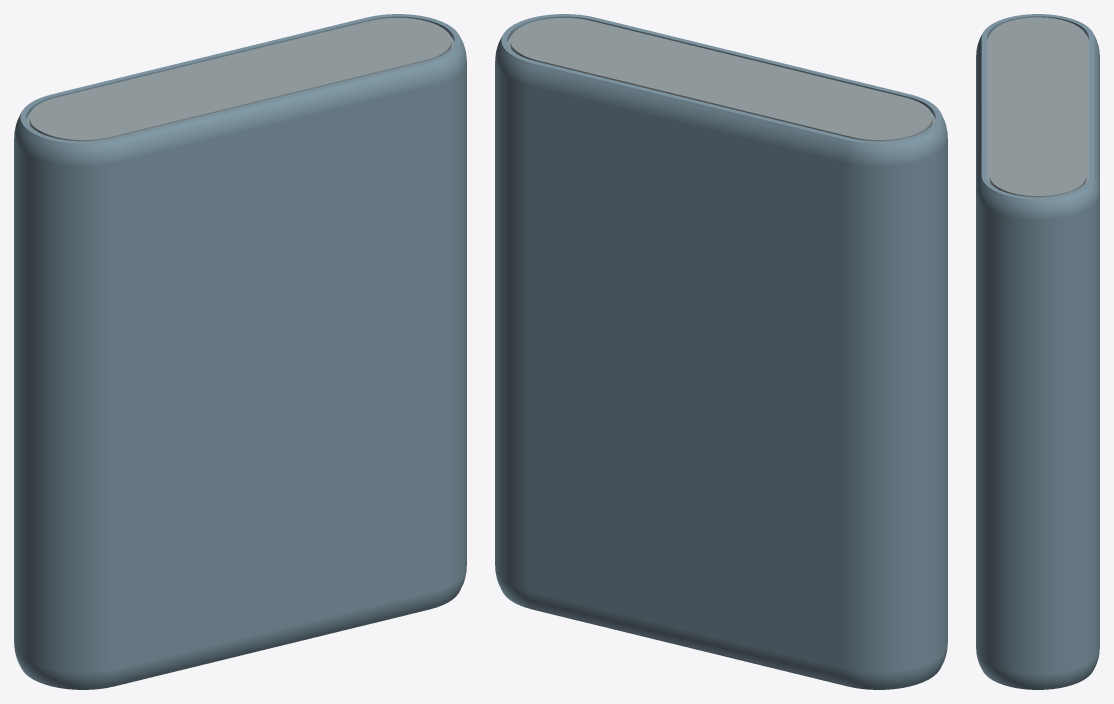
Rendered from AnkerPowerCore13000.glb.
The picture shows the model from 3 angles, left to right: view 1: azimuth 30°, elevation 25°; view 2: azimuth 150°, elevation 25°; view 3: azimuth 270°, elevation 25°; orthographic projection. The views are drawn at different scales.
Visible parts, largest first — view 1: 004704_A;2-Case13000_top, 004703_A;2-Case13000_btm; view 2: 004703_A;2-Case13000_btm, 004704_A;2-Case13000_top; view 3: 004703_A;2-Case13000_btm, 004704_A;2-Case13000_top.
Part boxes in pixels (box(x1,y1,x2,y2)): 004704_A;2-Case13000_top: box(23, 27, 466, 689); 004703_A;2-Case13000_btm: box(14, 14, 454, 675); 004703_A;2-Case13000_btm: box(495, 18, 938, 689); 004704_A;2-Case13000_top: box(510, 14, 947, 675); 004703_A;2-Case13000_btm: box(987, 14, 1099, 689); 004704_A;2-Case13000_top: box(976, 14, 1037, 689).
Bounding box in the file's own units: 0.0807 × 0.097 × 0.0222.
